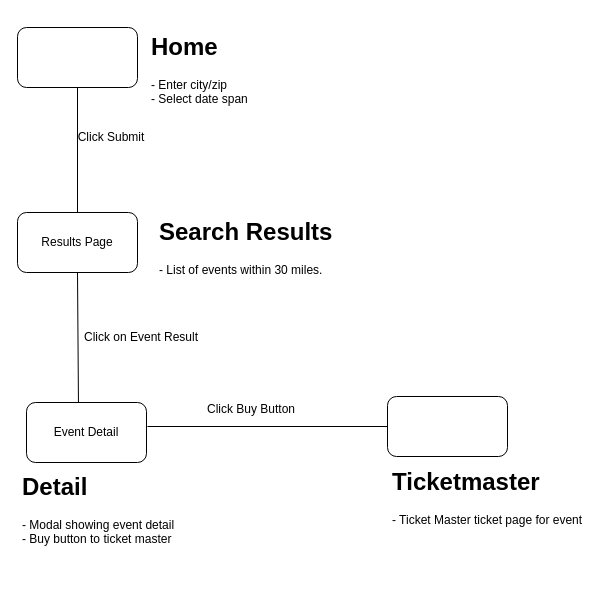
Image size: 605x589. Some labels were removed from this diagram. The shapes that lost their labels are listed below. From the top down, each one's box as (x1, y1, x2, y2) in pixels, then its label:
(16, 26, 138, 88): Home Page
(386, 396, 508, 456): Ticket Master
